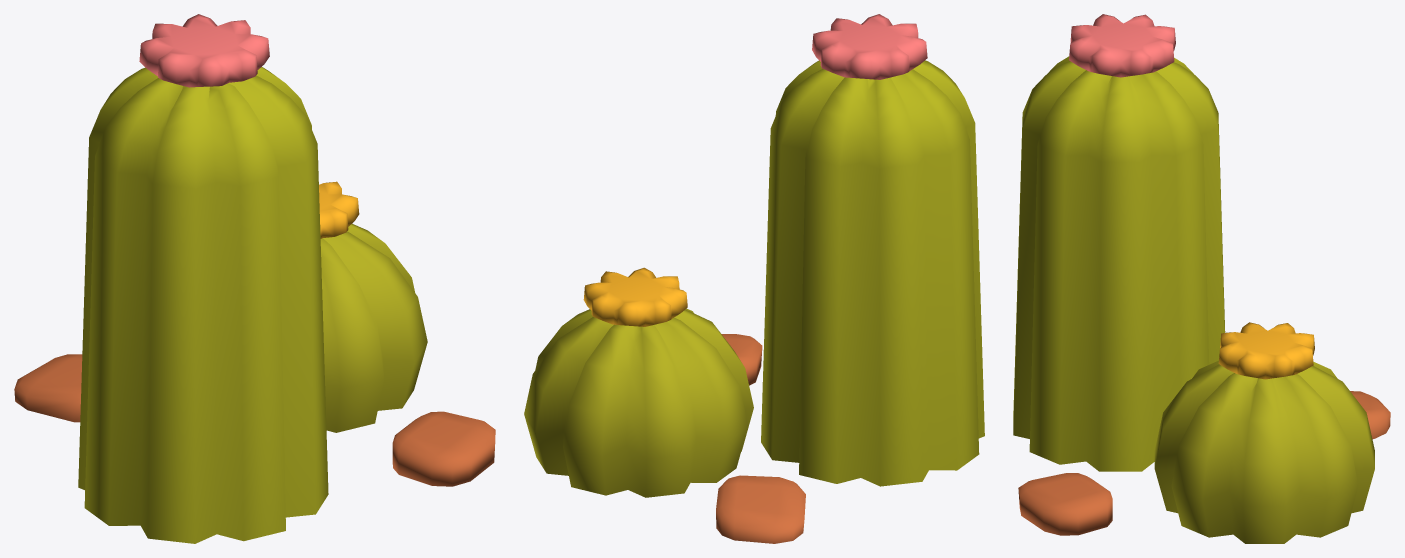
Rendered from cactus_large.obj.
3 renders of one model, left to right at view 1: azimuth 30°, elevation 25°; view 2: azimuth 150°, elevation 25°; view 3: azimuth 270°, elevation 25°, orthographic. The views are drawn at different scales.
Parts seen in each view (by area): view 1: cactus_large; view 2: cactus_large; view 3: cactus_large.
Boxes of the visible parts, x1,y1,x2,y2 form: cactus_large: [14, 14, 495, 543]; cactus_large: [524, 14, 984, 543]; cactus_large: [1013, 14, 1390, 543].
Size of the model in its own units: 1.68 by 1.83 by 1.59.
